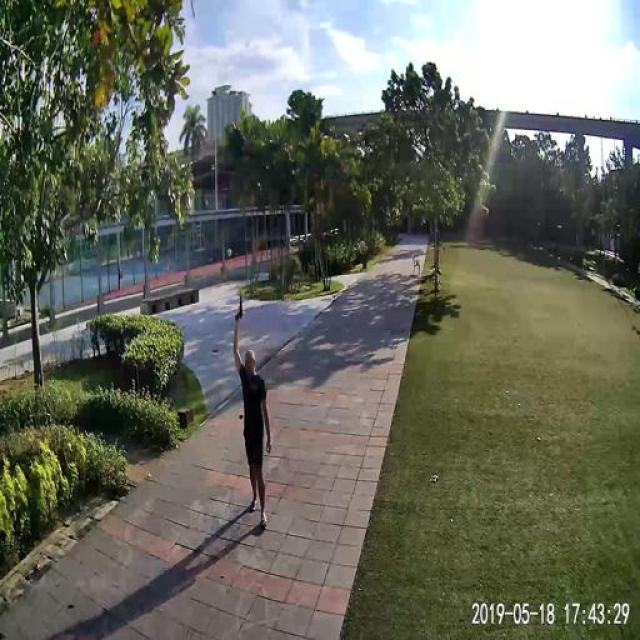Gun: (223, 284, 255, 327)
